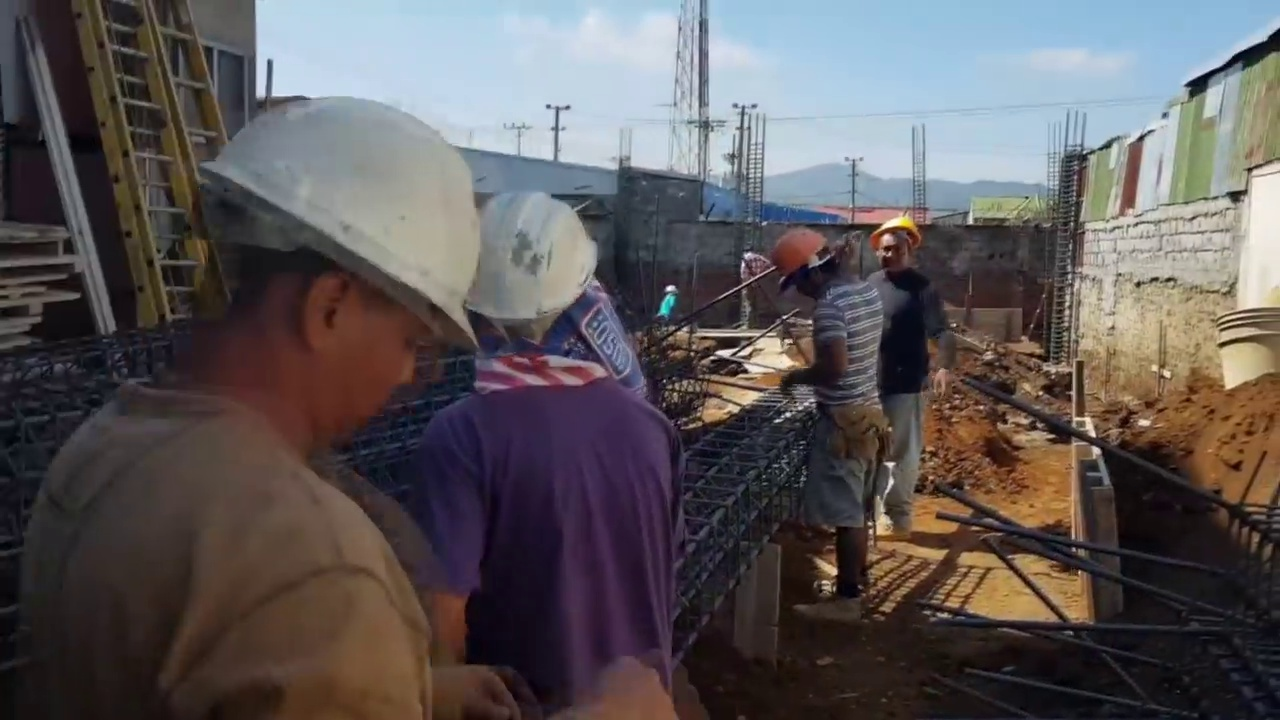helmet: (206, 93, 475, 352), (471, 194, 601, 333), (771, 229, 833, 281), (870, 216, 923, 249), (665, 285, 677, 294)
helmet-off: (738, 242, 754, 258)
helmet-on: (131, 89, 479, 433), (446, 184, 601, 375), (771, 228, 846, 303), (872, 216, 923, 278), (658, 285, 678, 319), (664, 285, 678, 298)
person: (22, 92, 482, 720), (422, 185, 683, 720), (760, 227, 881, 624), (870, 210, 954, 534), (737, 242, 769, 332)
